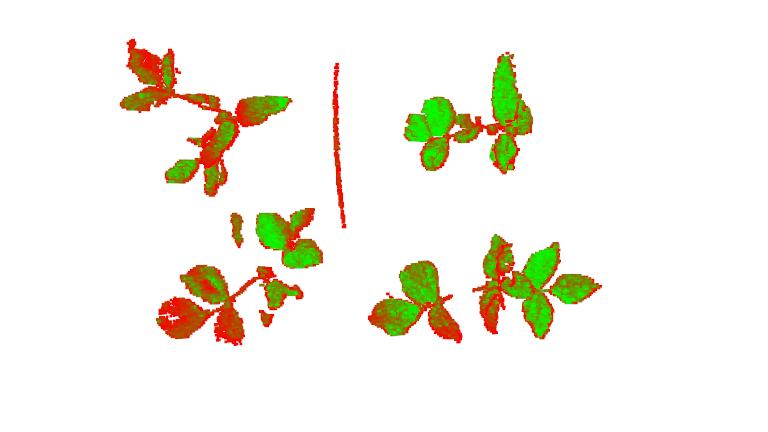mungbean: (115, 37, 294, 197), (155, 199, 329, 354), (363, 233, 602, 341), (399, 48, 540, 175)
